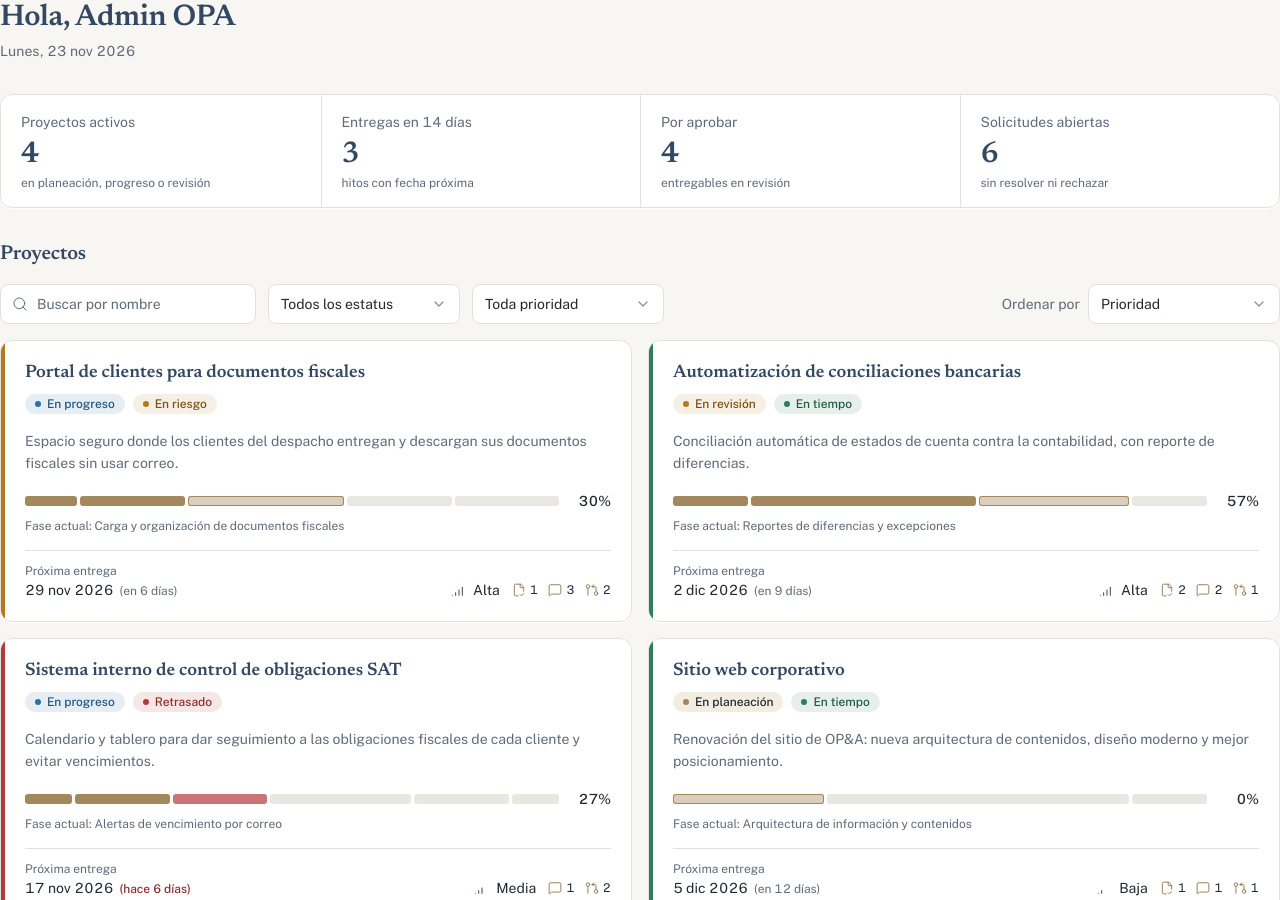
Scenario: DashboardPage › el filtro de búsqueda reduce las tarjetas y muestra el estado vacío
Later steps or results of the test are not shown.
In the search field named "Buscar proyecto por nombre": x=128, y=304 [0, 284, 256, 324], type "conciliaciones"
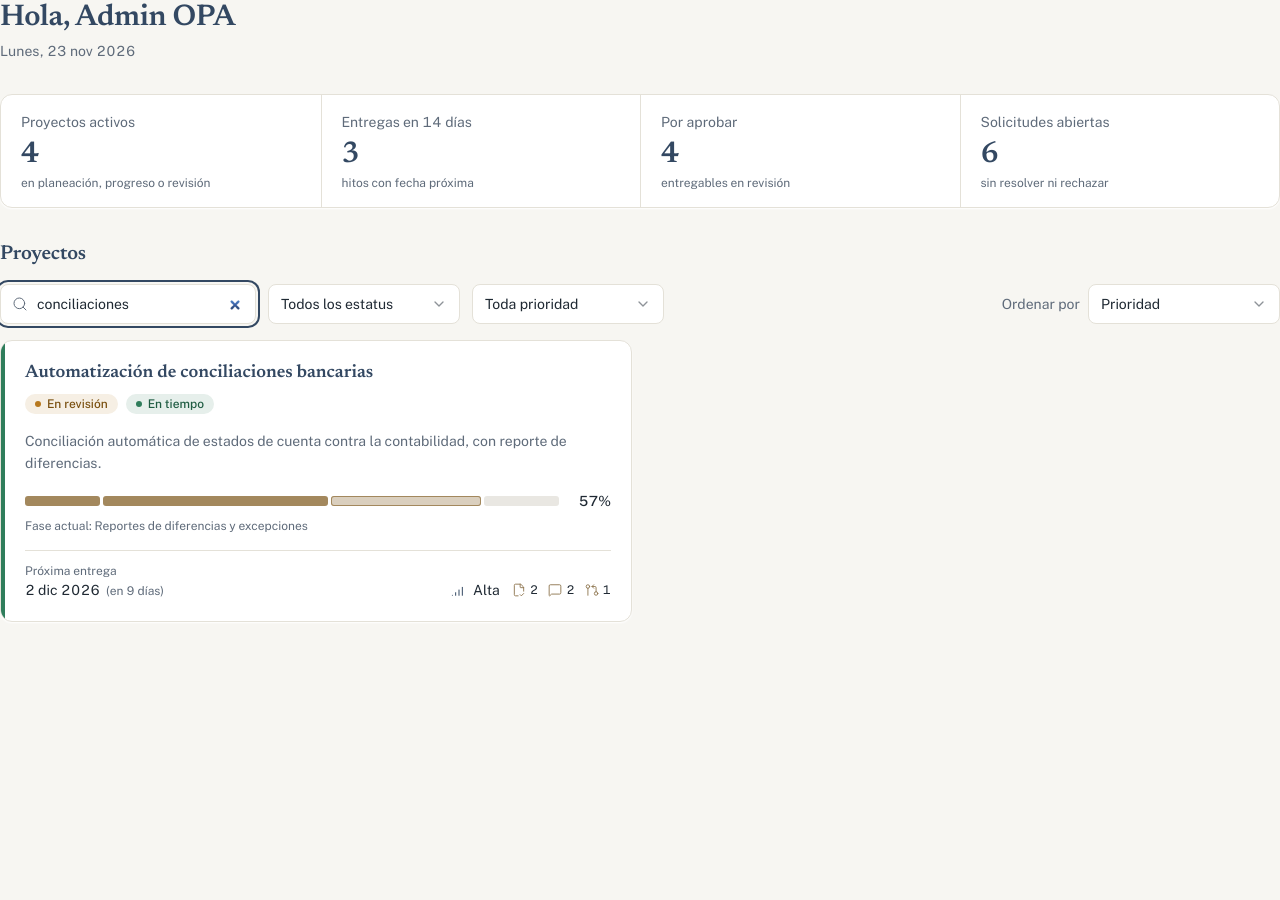
Replace the text in the search field named "Buscar proyecto por nombre" with "zzz": x=128, y=304 [0, 284, 256, 324]
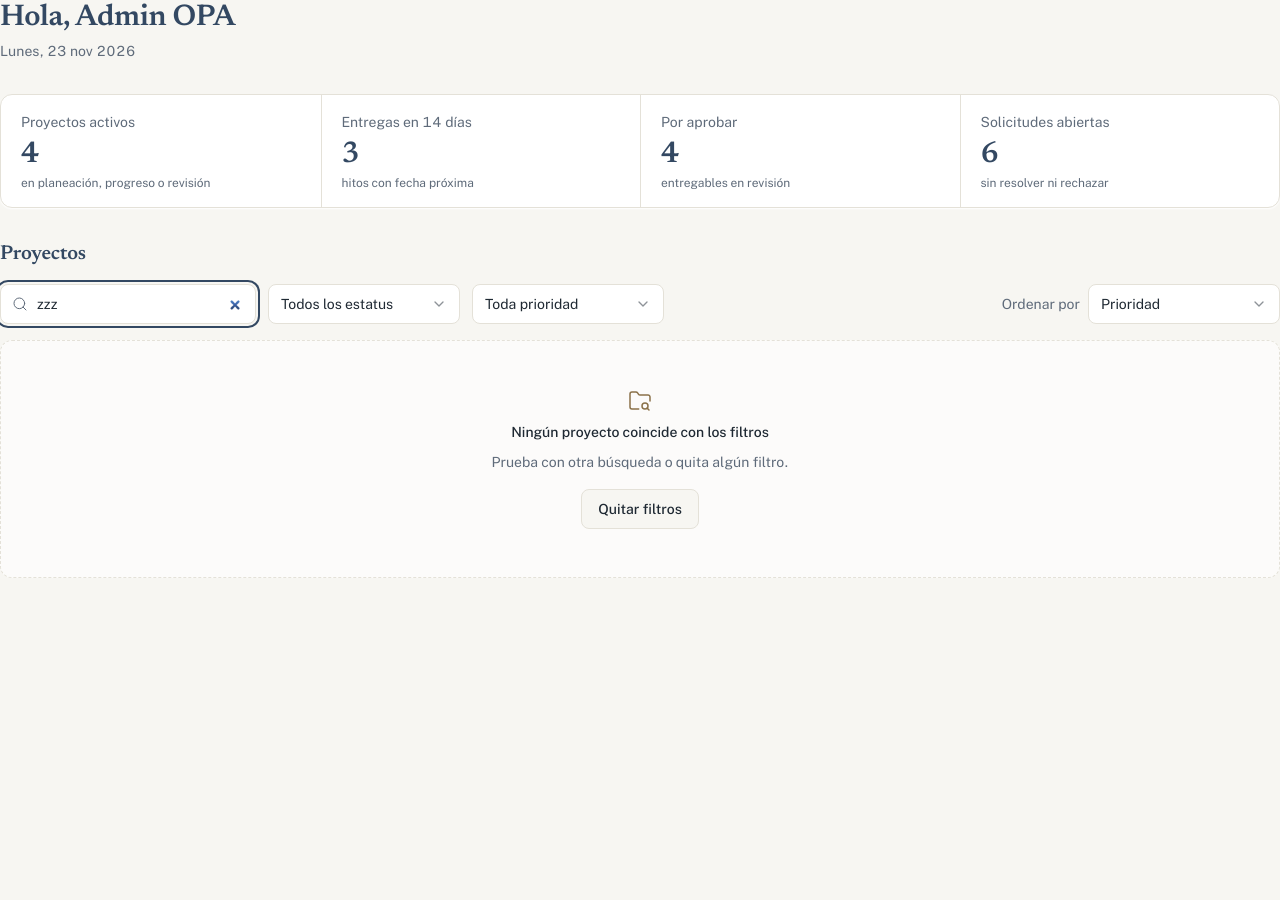
Expected: the text "Ningún proyecto coincide con los filtros" is shown, [511, 421, 769, 443]
